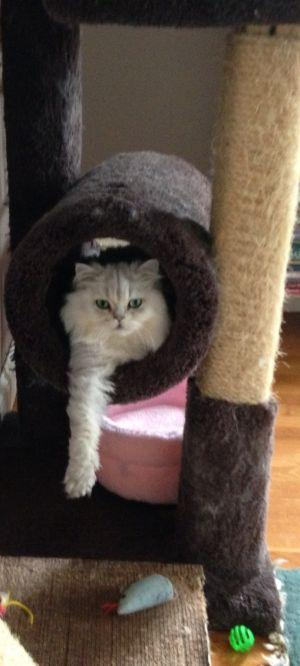persian: (63, 248, 170, 349)
